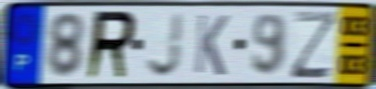8: (45, 10, 86, 81)
9: (250, 11, 287, 79)
J: (144, 11, 186, 80)
K: (192, 12, 231, 78)
R: (83, 9, 139, 83)
Z: (289, 8, 340, 81)
